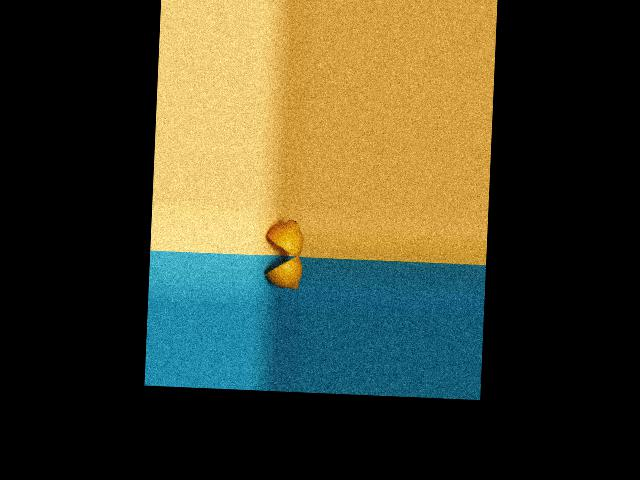lemon: (262, 253, 304, 294)
